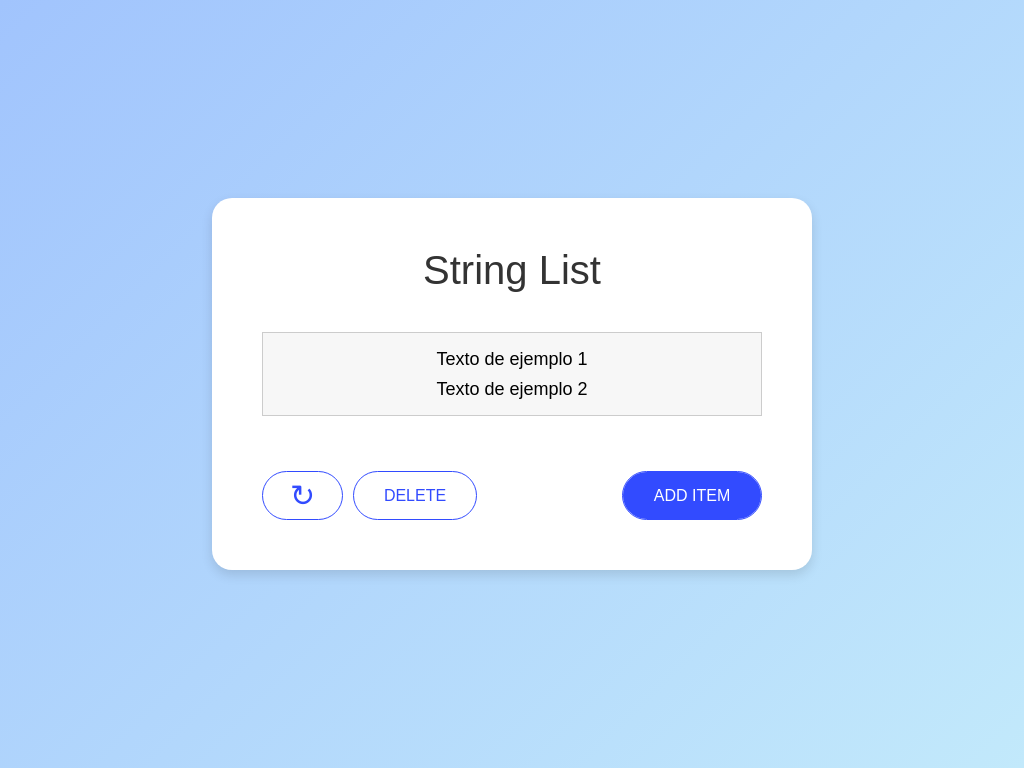
App › renders new string modal
Click the button with aria-label "open create item modal" at (692, 496), box left=622, top=471, right=762, bottom=520
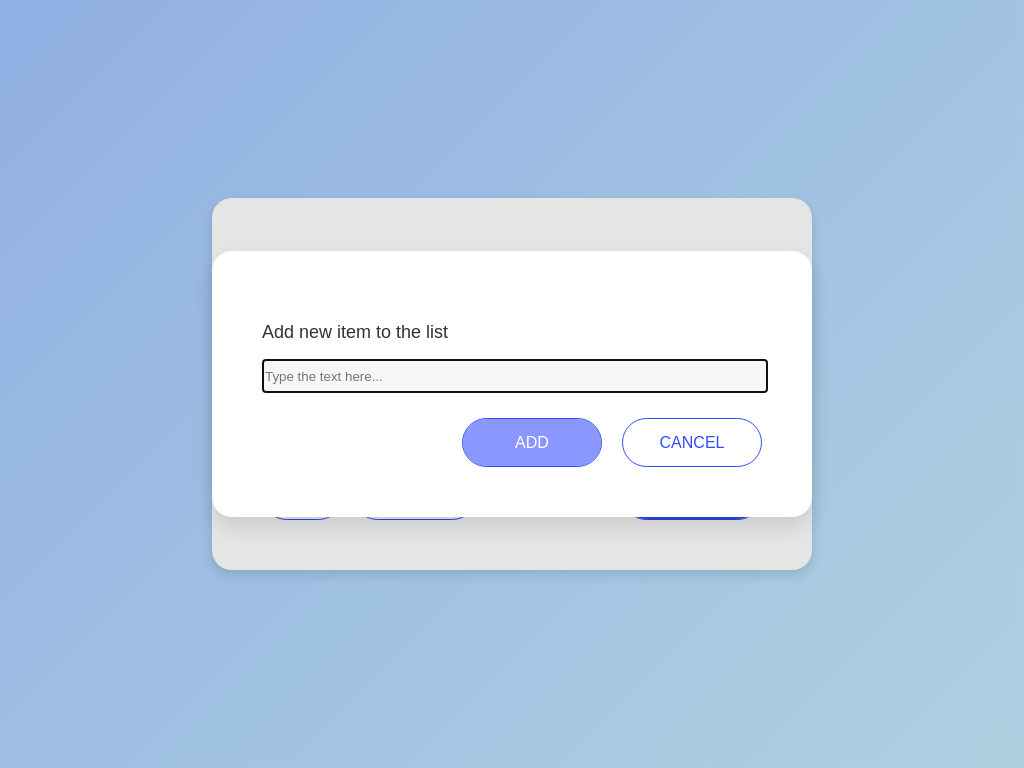
Result: the text "Add new item to the list" is shown at left=262, top=322, right=448, bottom=342
